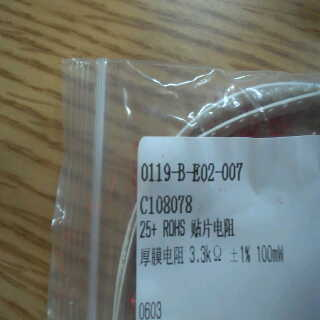3.3kO: (184, 241, 228, 267)
